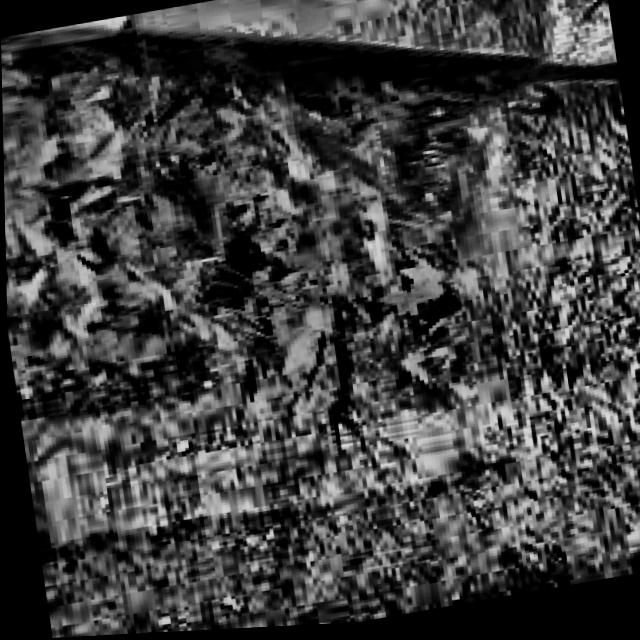clogged_drains: (1, 43, 478, 409)
